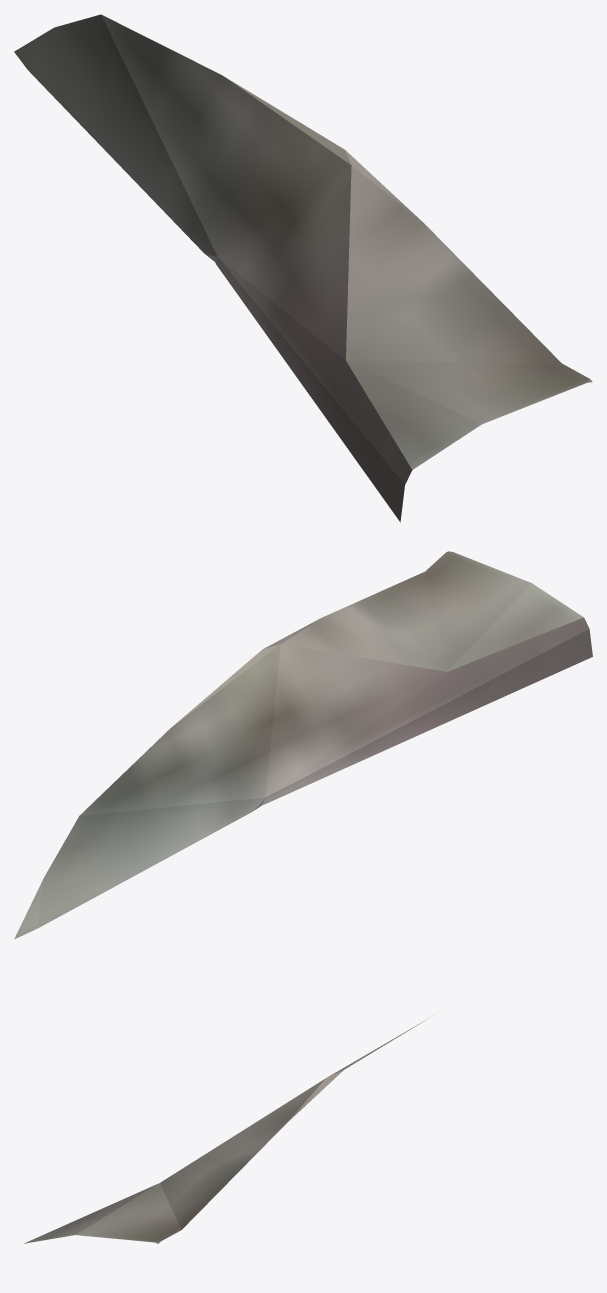
3 renders of one model, top to bottom at view 1: azimuth 30°, elevation 25°; view 2: azimuth 150°, elevation 25°; view 3: azimuth 330°, elevation 25°, orthographic. The views are drawn at different scales.
Size of the model in its own units: 0.0429 by 0.0307 by 0.2234.
1 material, 1 textured.
